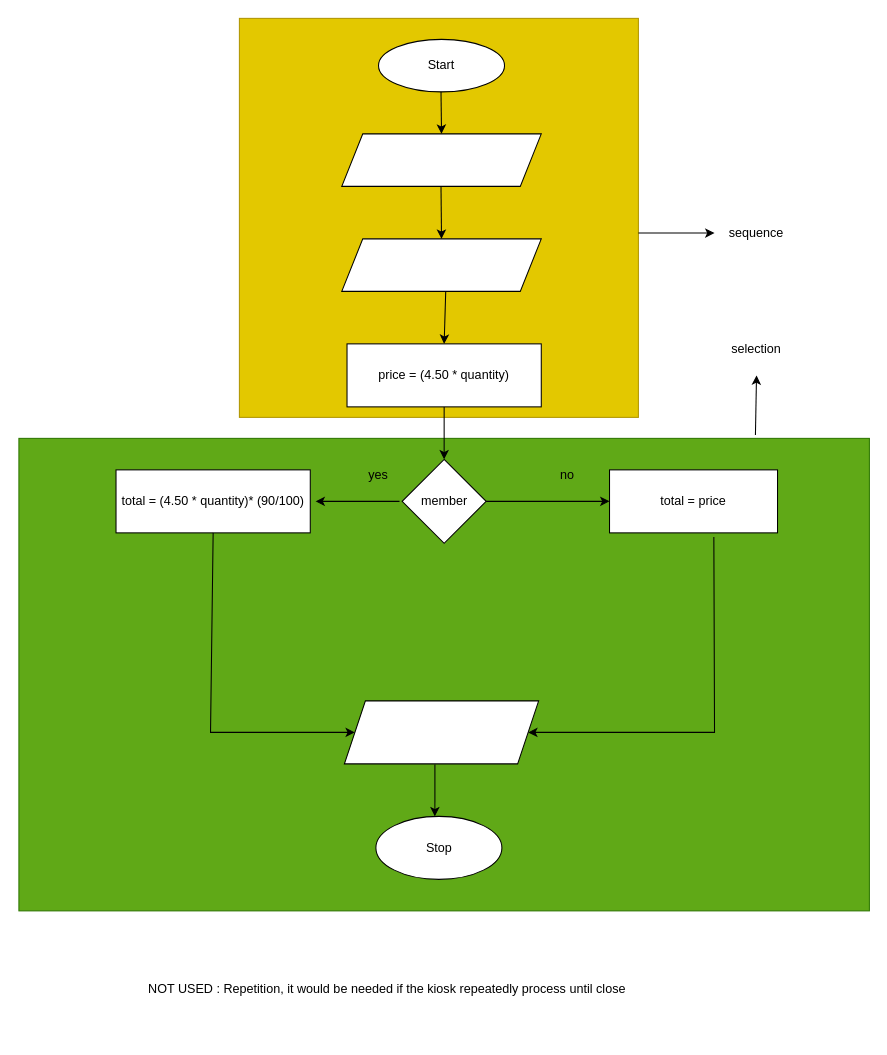
The diagram is 887 pixels wide and 1055 high, and some of its shapes have lost their labels. The centre of each missing label's shape, as x and y in pixels:
"Display total" belongs at (441,732).
"Read member" belongs at (441,264).
"Read quantity" belongs at (441,159).
